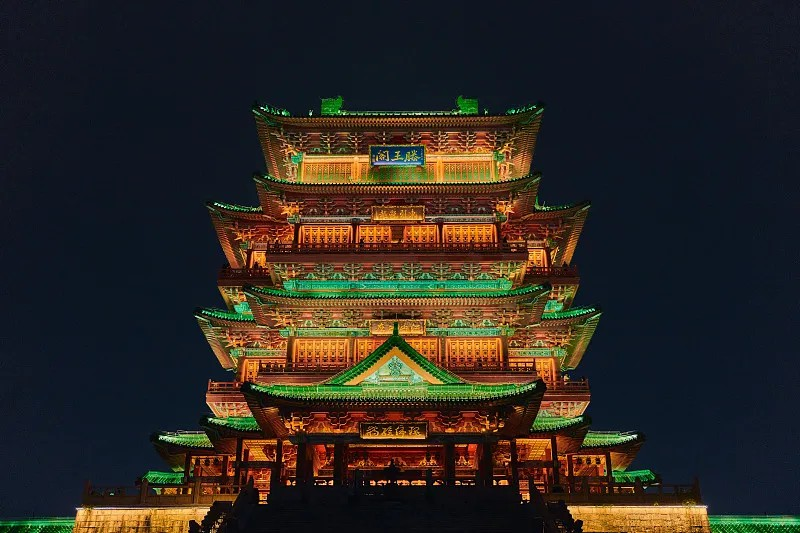Teng: (143, 97, 655, 484)
